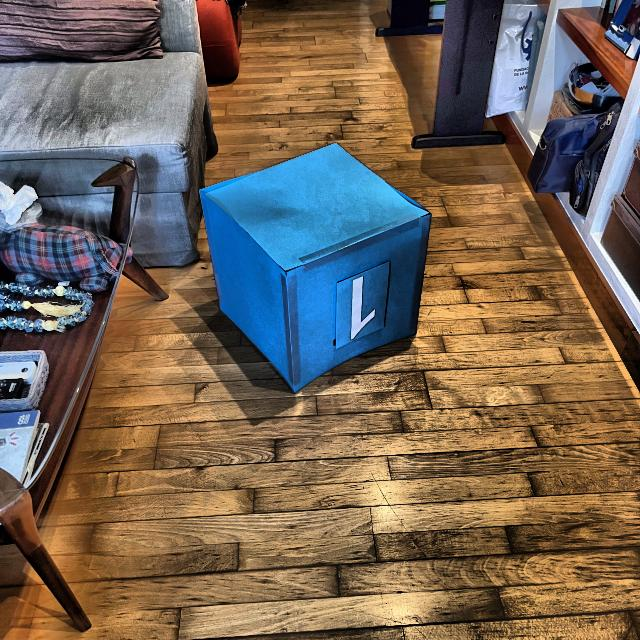blue box: (198, 137, 435, 396)
one: (348, 275, 378, 342)
